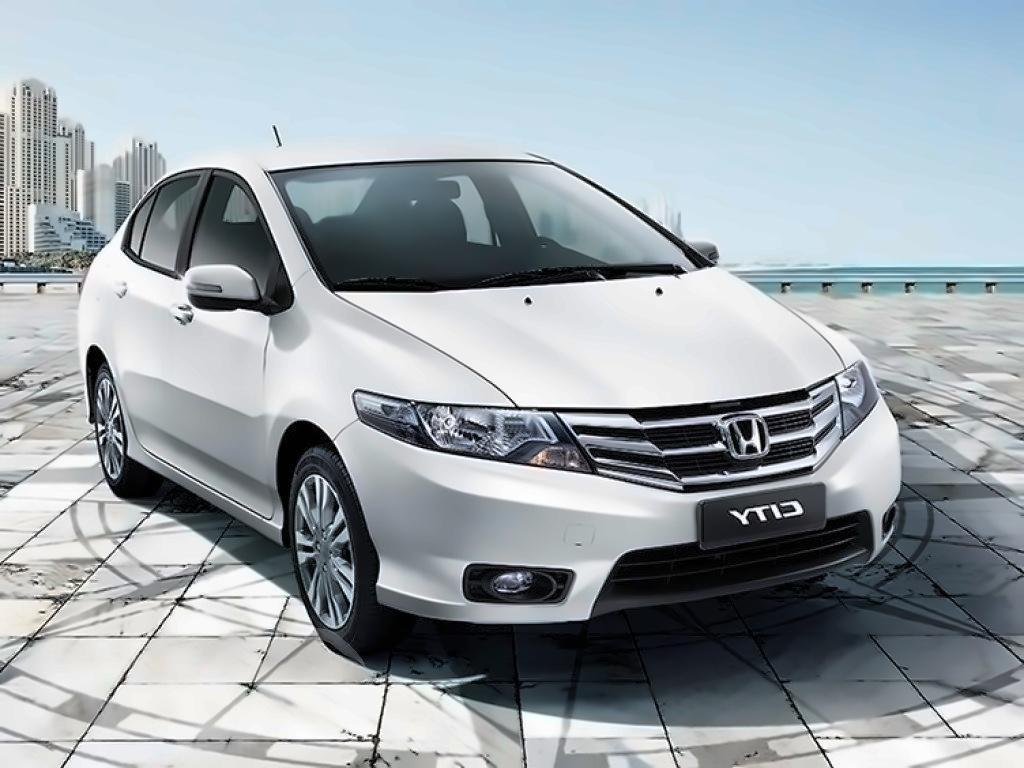Car hood: (323, 260, 847, 414)
Driver-s door - -F-R-: (169, 159, 272, 519)
Fender - -F-R-: (264, 261, 507, 539)
Fender - -R-R-: (82, 278, 139, 464)
Front bumper: (340, 443, 932, 631)
Headlight - -L-: (824, 353, 890, 447)
Headlight - -R-: (345, 373, 598, 481)
Passenger-s door - -R-R-: (104, 169, 168, 458)
Rear bumper: (69, 339, 98, 426)
Side bumper - -R-: (113, 436, 293, 557)
Side mirror - -L-: (676, 232, 728, 265)
Side mirror - -R-: (179, 254, 272, 320)
